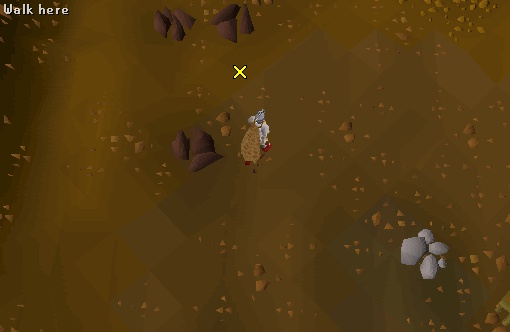iron: (165, 123, 229, 179), (150, 3, 199, 46)
